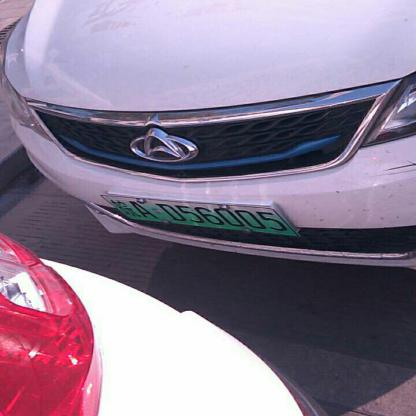lp: (102, 196, 298, 234)
